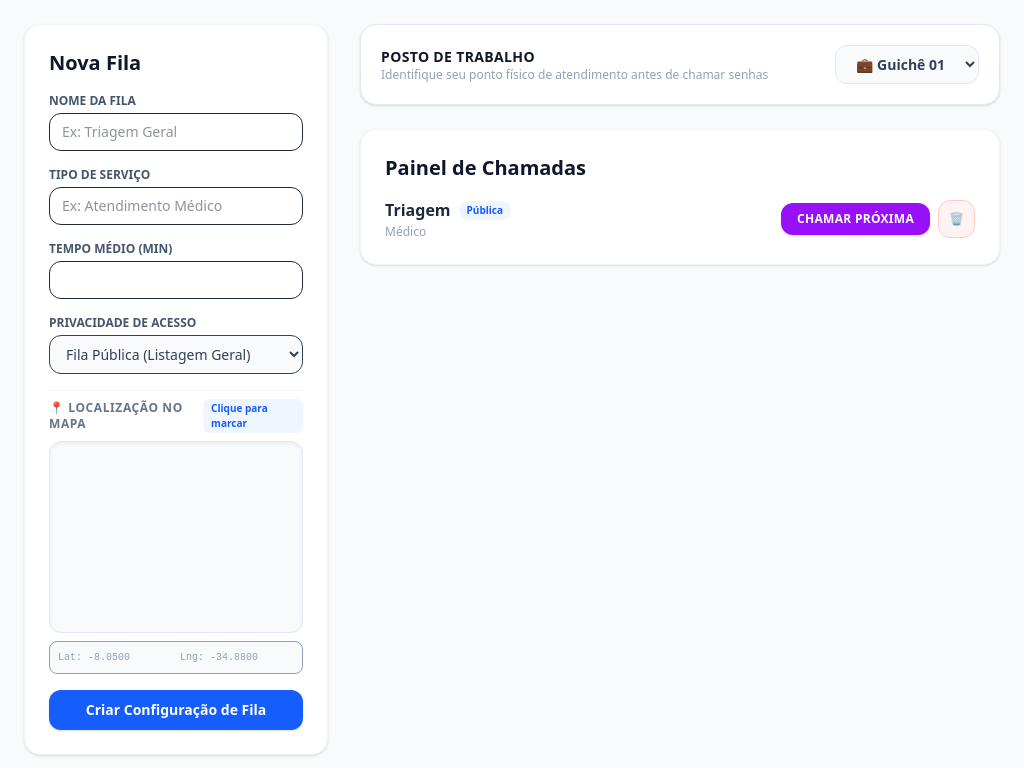
it: AdminDashboard — página › exibe erro se a criação de fila falhar
Type "Fila Err" into the field with placeholder "Ex: Triagem Geral". click: (176, 132)
box: [49,113,303,151]
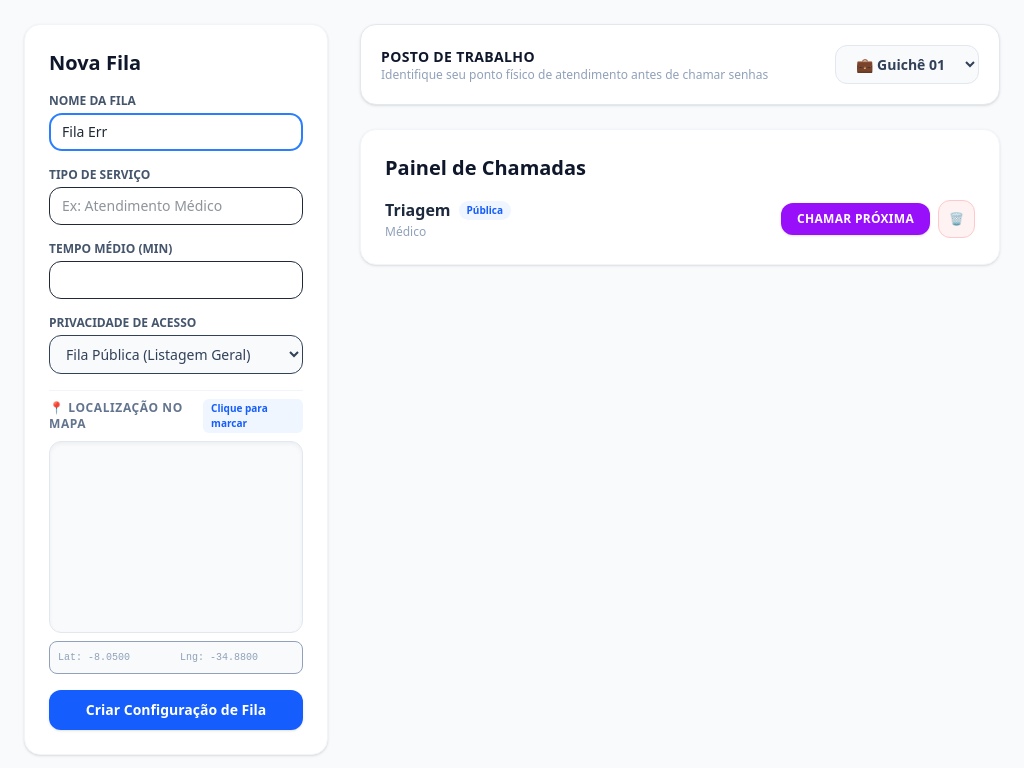
Type "Geral" into the field with placeholder "Ex: Atendimento Médico". click: (176, 206)
box: [49,187,303,225]
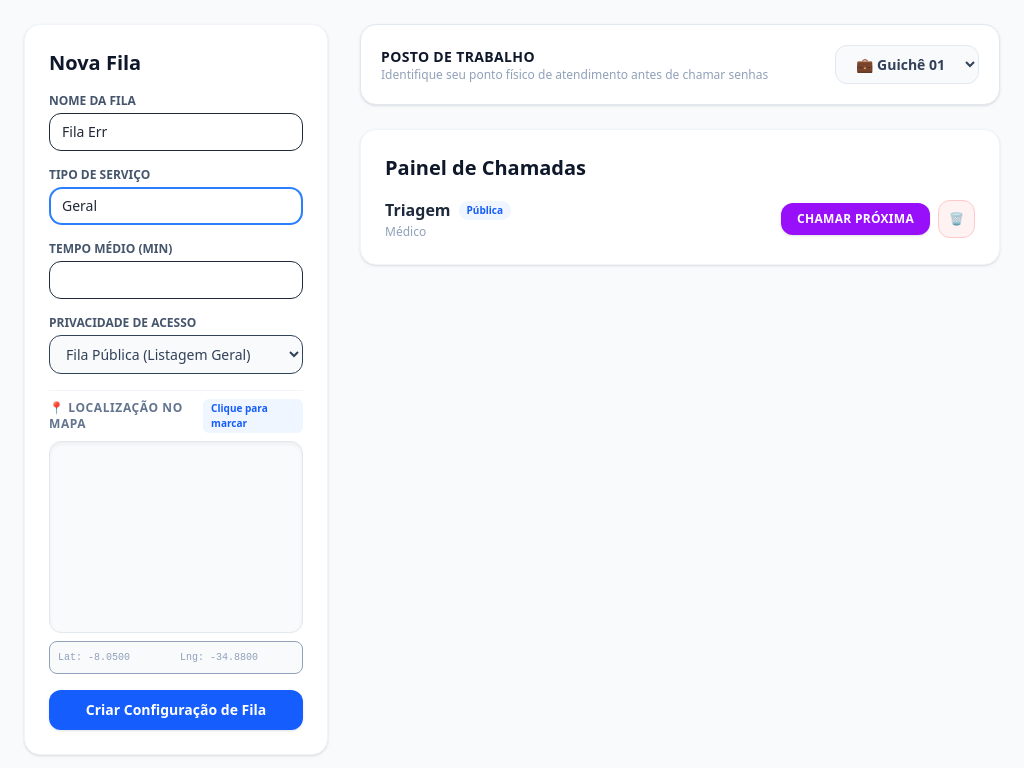
Type "5" into the number field. click: (176, 280)
box: [49,261,303,299]
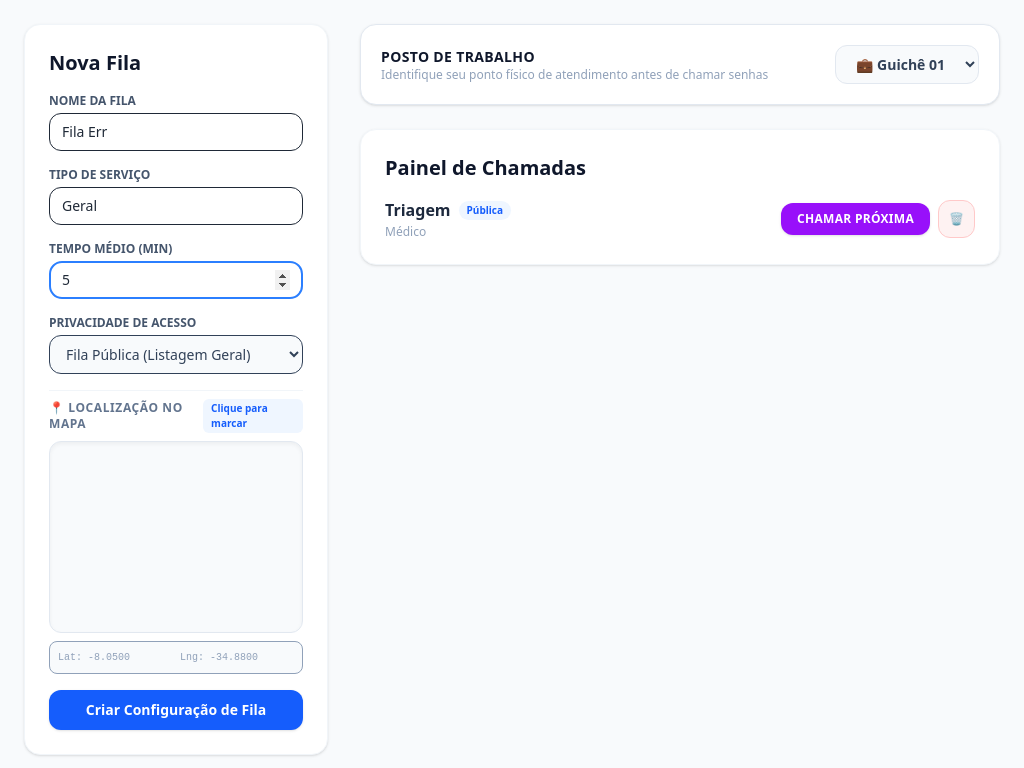
Click the button "Criar Configuração de Fila". click: (176, 710)
box: [49,690,303,730]
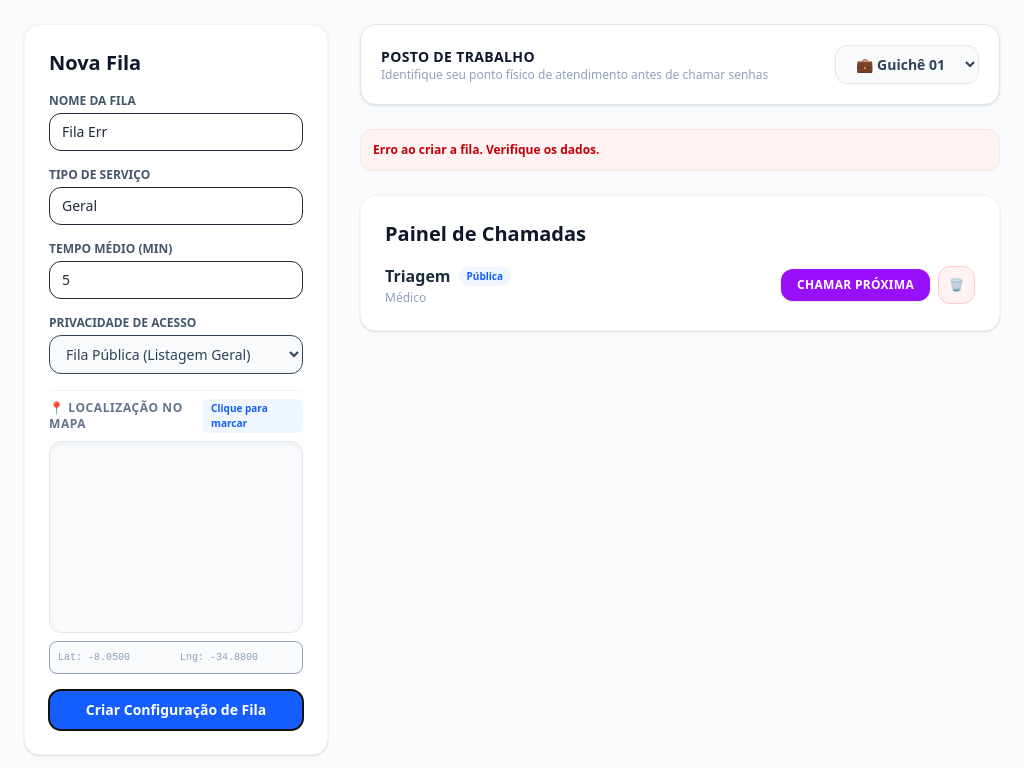
expect the text "Erro ao criar a fila. Verifique os dados." is shown: met, box [360,129,1000,171]
